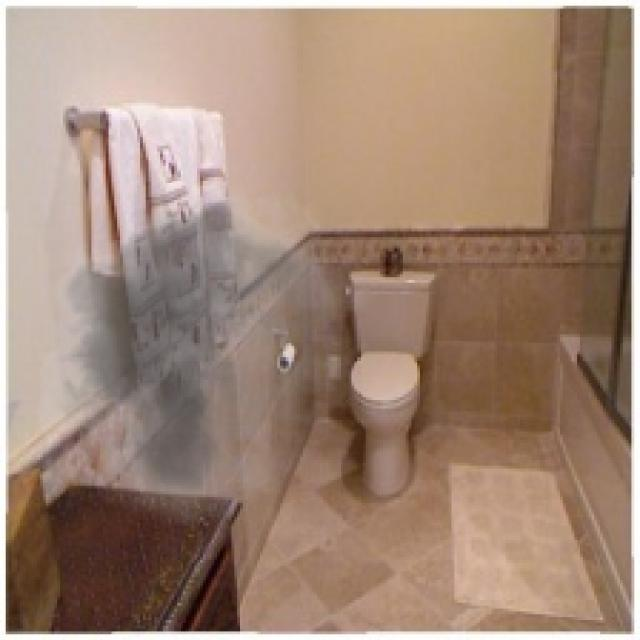smoke: (20, 174, 380, 526)
